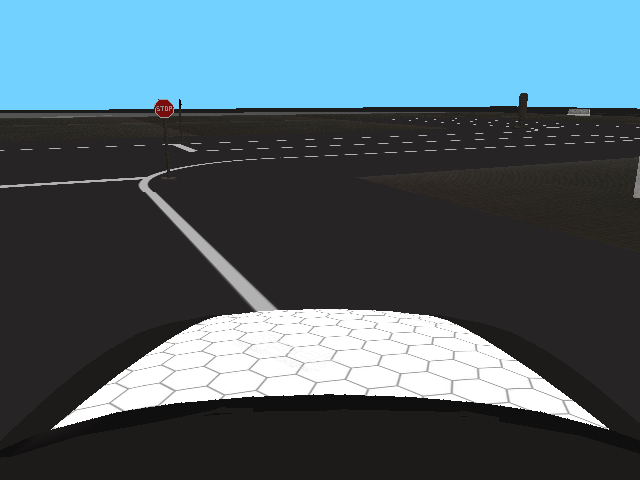stop: (154, 99, 175, 119)
